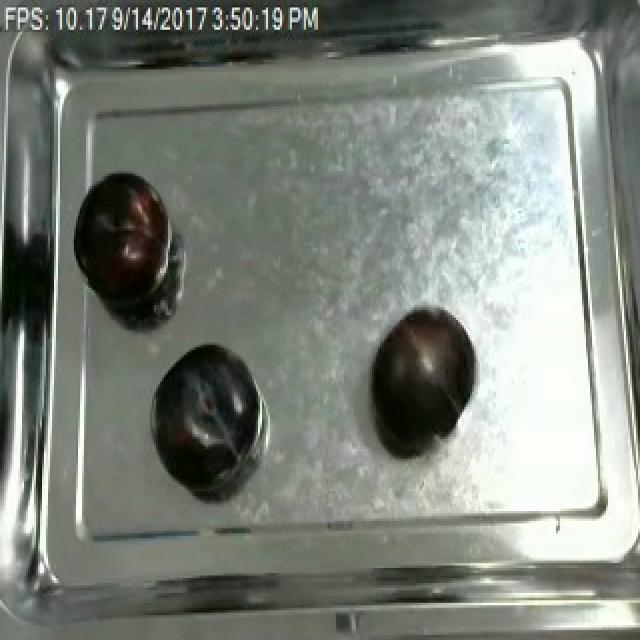Fruit: (148, 337, 260, 489), (366, 300, 480, 447), (70, 166, 178, 313)
